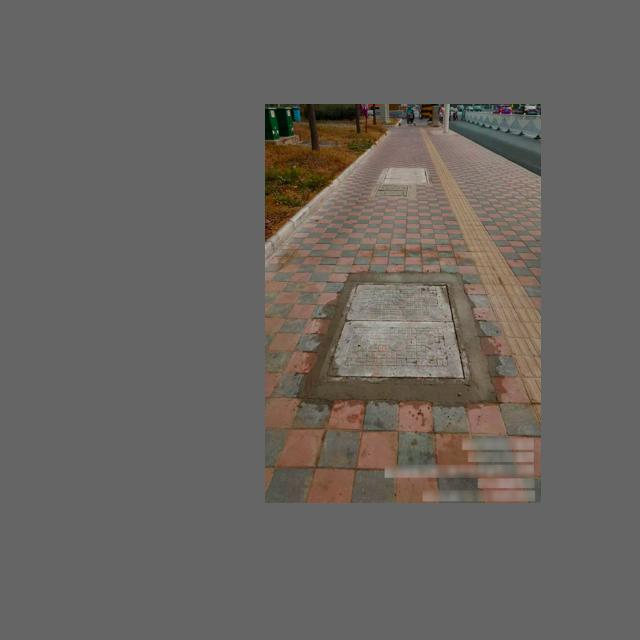good: (318, 281, 476, 383)
